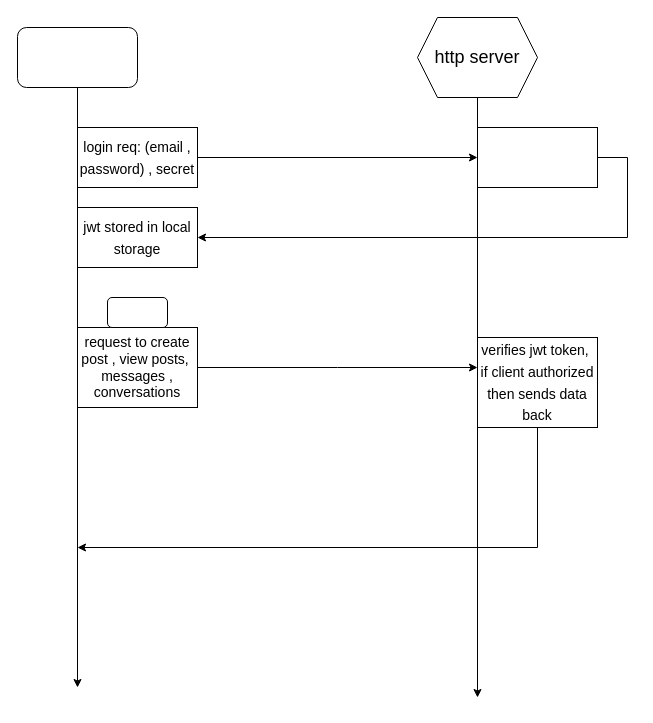
This 653x723 diagram has some shape labels left out. Here are the shapes that lost their labels. From the top down, the box of each, then its label:
(16, 26, 138, 88): Client
(476, 126, 598, 188): creating jwt by signing data with server secret
(106, 296, 168, 328): jwt token
